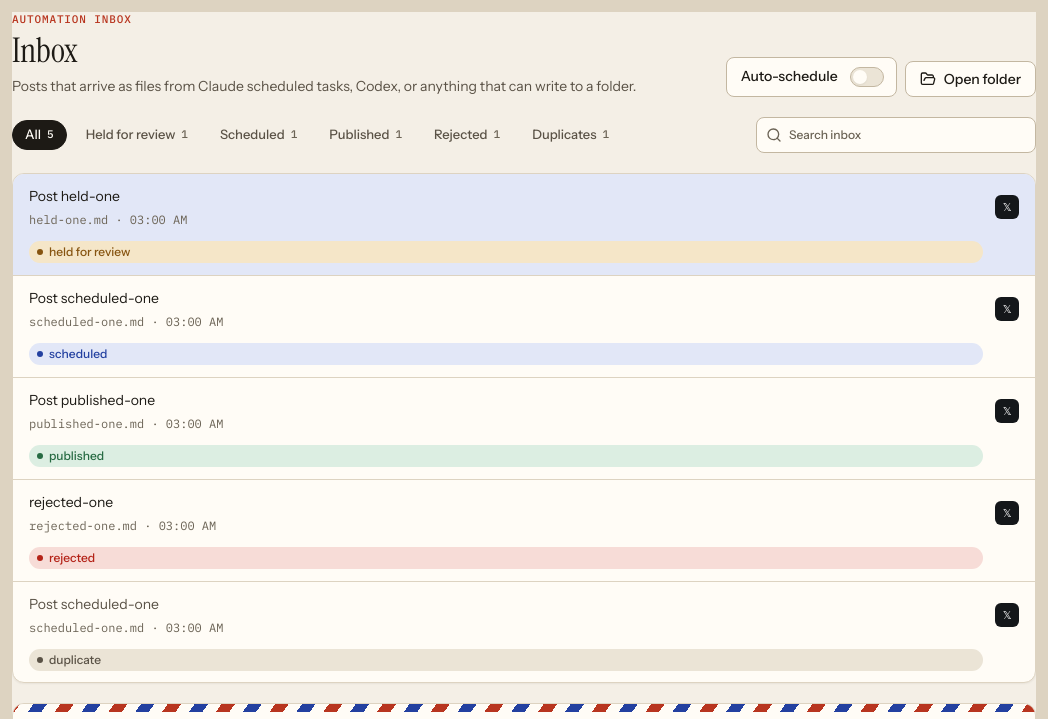
Inbox screen › filters by state with counts and by search text
Expected: the number of options is 5, [13,174,1035,276]; [13,276,1035,378]; [13,378,1035,480]; [13,480,1035,582]; [13,582,1035,682]
Click the button "Held for review 1" at (137, 135), box [73,120,201,150]
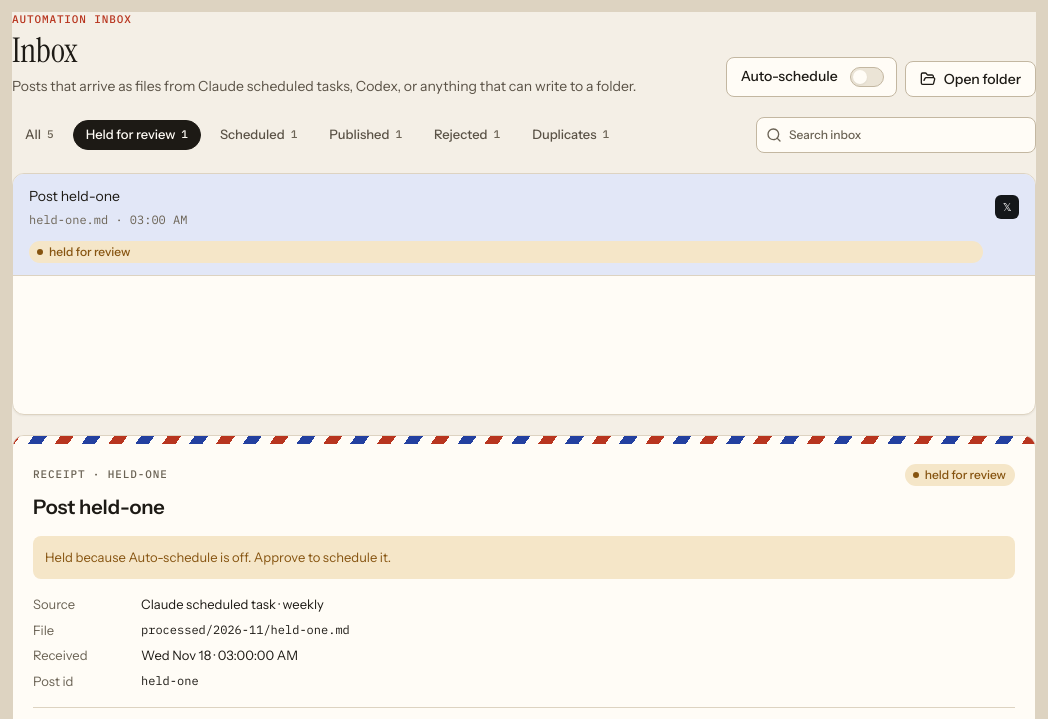
Click the button "Duplicates 1" at (571, 135), box [519,120,622,150]
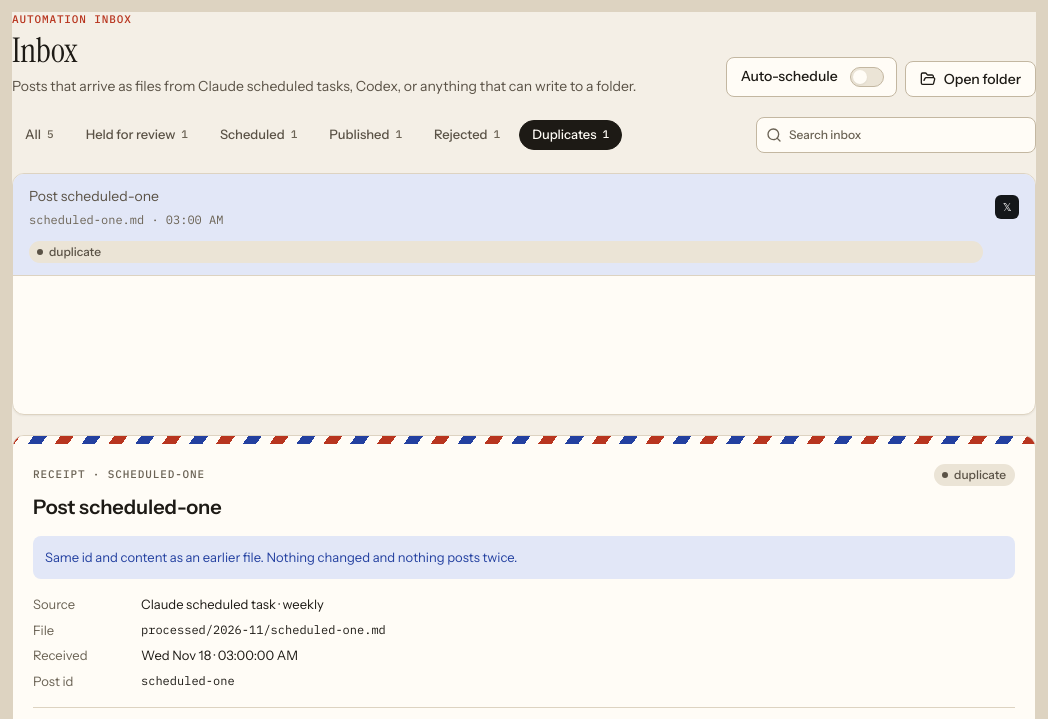
Now the number of options is 1, box [13,174,1035,276]
Click the button "All 5" at (39, 135), box [12,120,67,150]
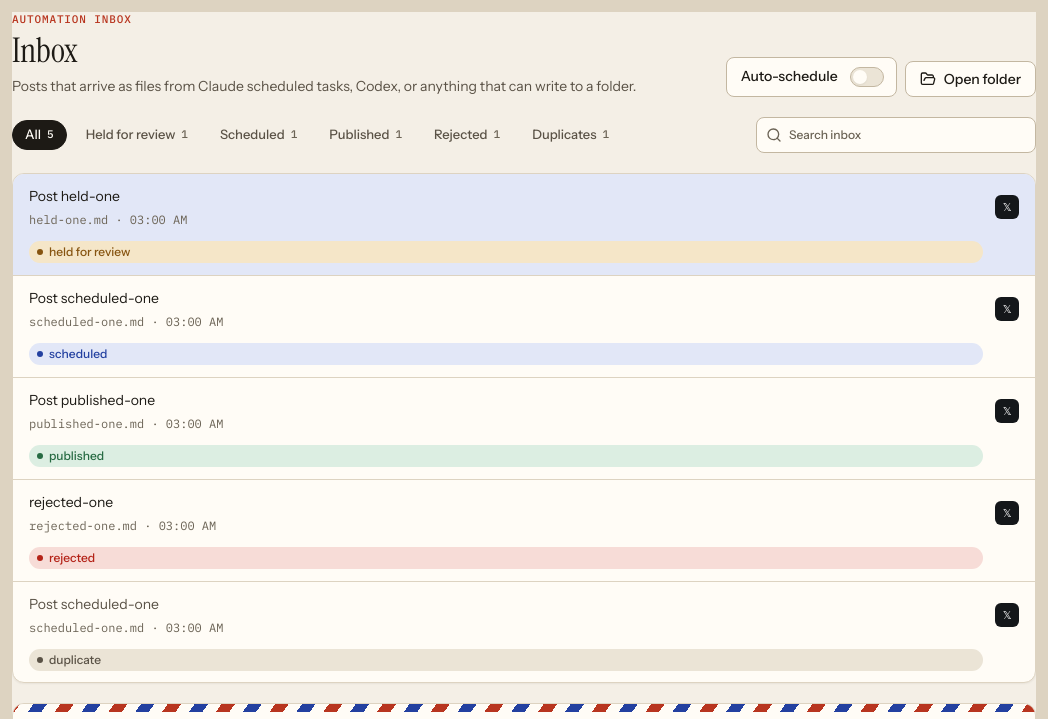
Type "published-one" into the search field named "Search the inbox" at (896, 135), box [756,117,1036,153]
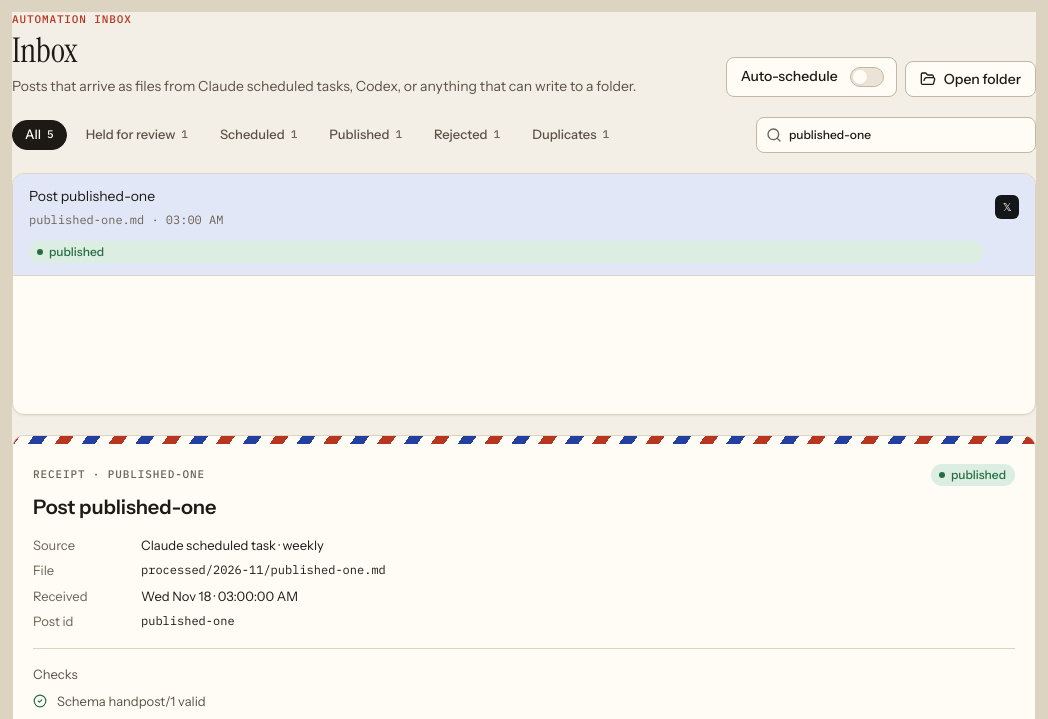
Now the number of options is 1, box [13,174,1035,276]
